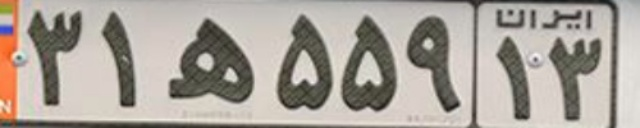1: (97, 11, 139, 108), (495, 36, 533, 119)
3: (25, 9, 81, 105), (546, 35, 601, 121)
5: (342, 12, 397, 110), (279, 14, 331, 107)
9: (407, 14, 462, 113)
he: (165, 17, 254, 104)
